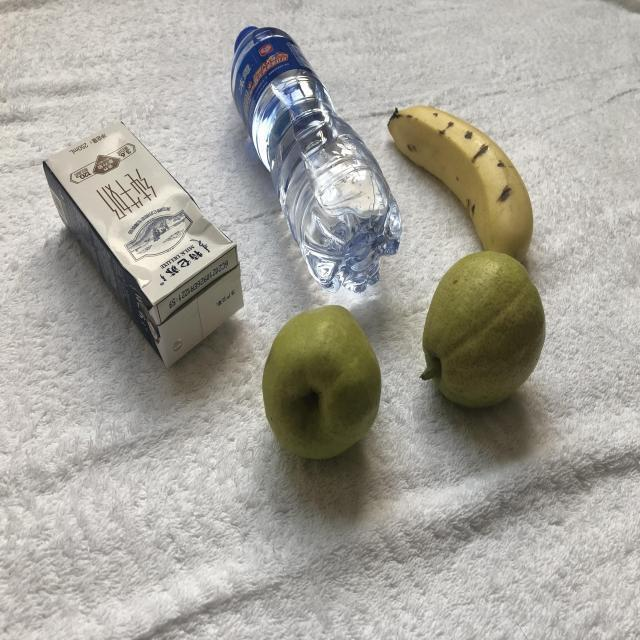Banana: (385, 71, 544, 282)
